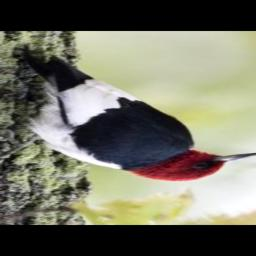Woodpecker: (0, 46, 256, 184)
